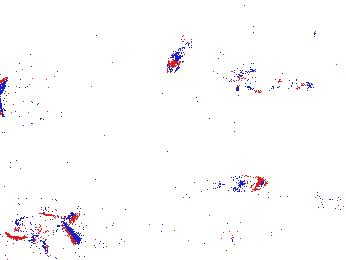X-ray fish: (38, 70, 74, 104), (164, 35, 193, 75)
red belly glassfish: (213, 175, 269, 194), (272, 186, 315, 204)
redtail glassfish: (229, 64, 317, 95), (6, 210, 73, 241)
